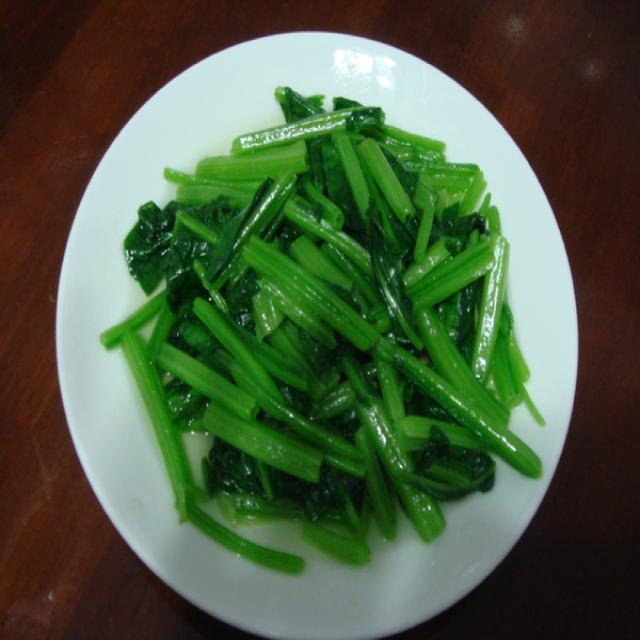蔬菜料理: (64, 57, 589, 606)
